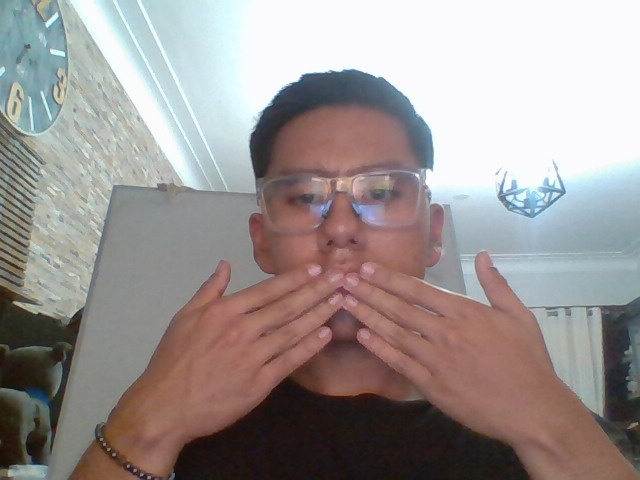Thanks: (141, 252, 572, 452)
